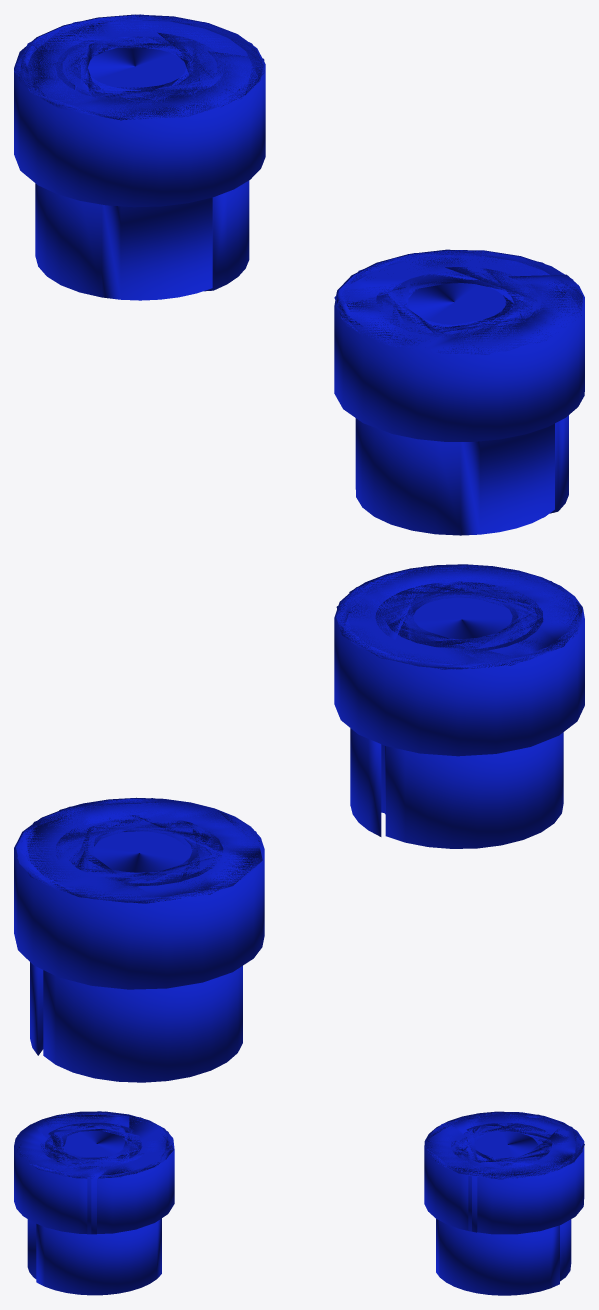
The model's file is tuyeau_element_000099.obj.
3 renders of one model, top to bottom at view 1: azimuth 30°, elevation 25°; view 2: azimuth 150°, elevation 25°; view 3: azimuth 270°, elevation 25°, orthographic. The views are drawn at different scales.
Visible parts, largest first — view 1: tuyeau1_Cube.014, tuyeau2_Cube.017; view 2: tuyeau2_Cube.017, tuyeau1_Cube.014; view 3: tuyeau1_Cube.014, tuyeau2_Cube.017.
Boxes of the visible parts, <box> form: tuyeau1_Cube.014: <box>14,14,265,300</box>; tuyeau2_Cube.017: <box>334,249,584,535</box>; tuyeau2_Cube.017: <box>334,564,584,848</box>; tuyeau1_Cube.014: <box>14,797,264,1082</box>; tuyeau1_Cube.014: <box>424,1111,584,1295</box>; tuyeau2_Cube.017: <box>14,1111,174,1295</box>.
Size of the model in its own units: 3538 by 2917 by 12514.
